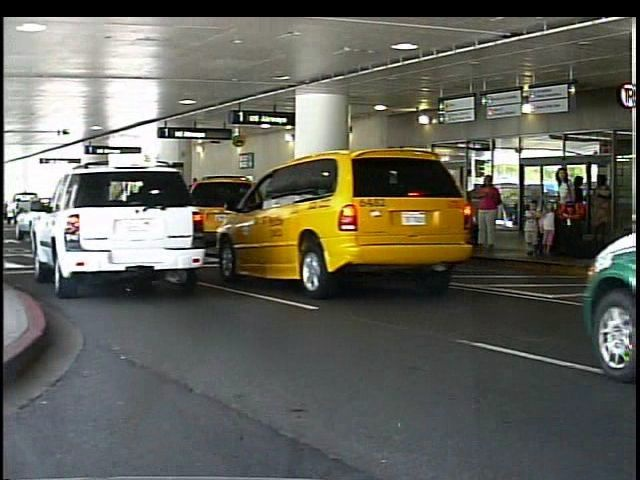person: (553, 165, 579, 256), (479, 171, 505, 257), (593, 173, 616, 243), (571, 173, 591, 243), (526, 199, 546, 255), (542, 201, 559, 254)
